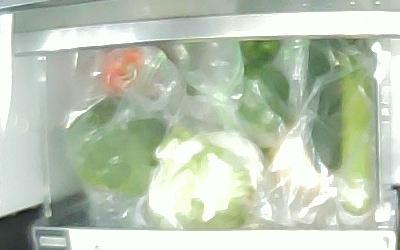apple_vinyl: (102, 47, 147, 95)
broccoli_vinyl: (65, 101, 165, 198)
cucumber_vinyl: (339, 38, 375, 215), (306, 40, 344, 169)
lettuce_vinyl: (149, 126, 264, 230)
paprika_vinyl: (240, 65, 291, 132), (239, 37, 283, 66)
